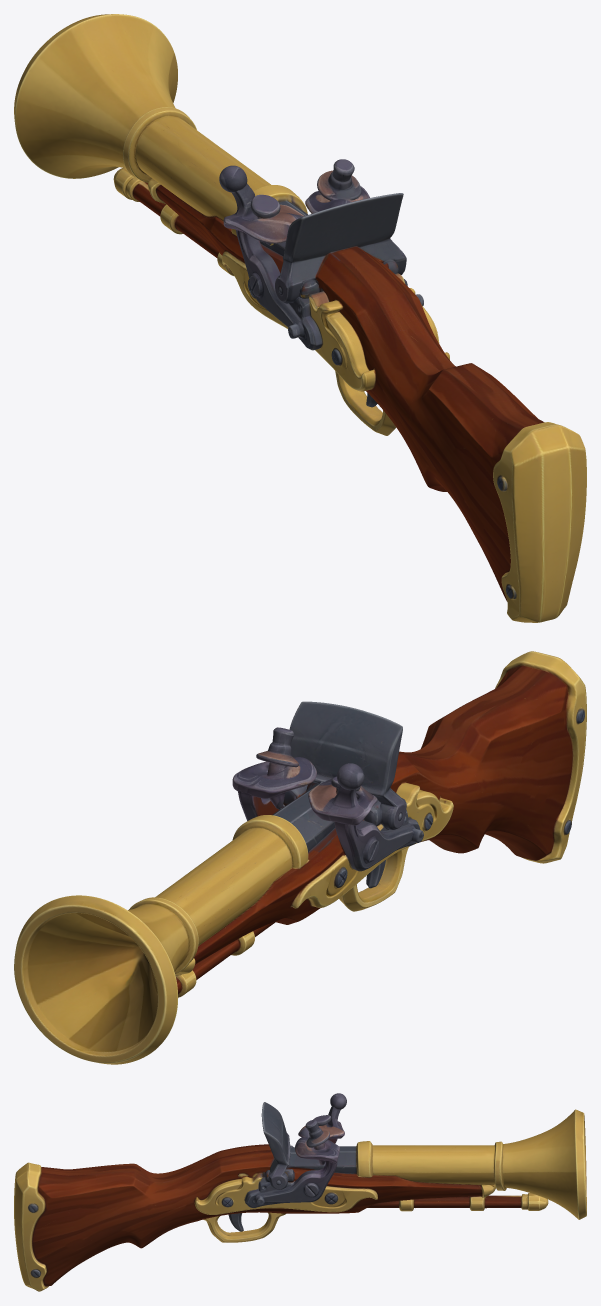
File: blunderbuss_body.glb
3 renders of one model, top to bottom at view 1: azimuth 30°, elevation 25°; view 2: azimuth 150°, elevation 25°; view 3: azimuth 270°, elevation 25°, orthographic. The views are drawn at different scales.
Parts seen in each view (by area): view 1: Mesh_0; view 2: Mesh_0; view 3: Mesh_0.
Boxes of the visible parts, left/top/right/bottom form: Mesh_0: left=14, top=14, right=586, bottom=622; Mesh_0: left=14, top=651, right=586, bottom=1064; Mesh_0: left=14, top=1093, right=586, bottom=1291.
Size of the model in its own units: 0.1531 by 0.2599 by 0.763.
1 material, 1 textured.
